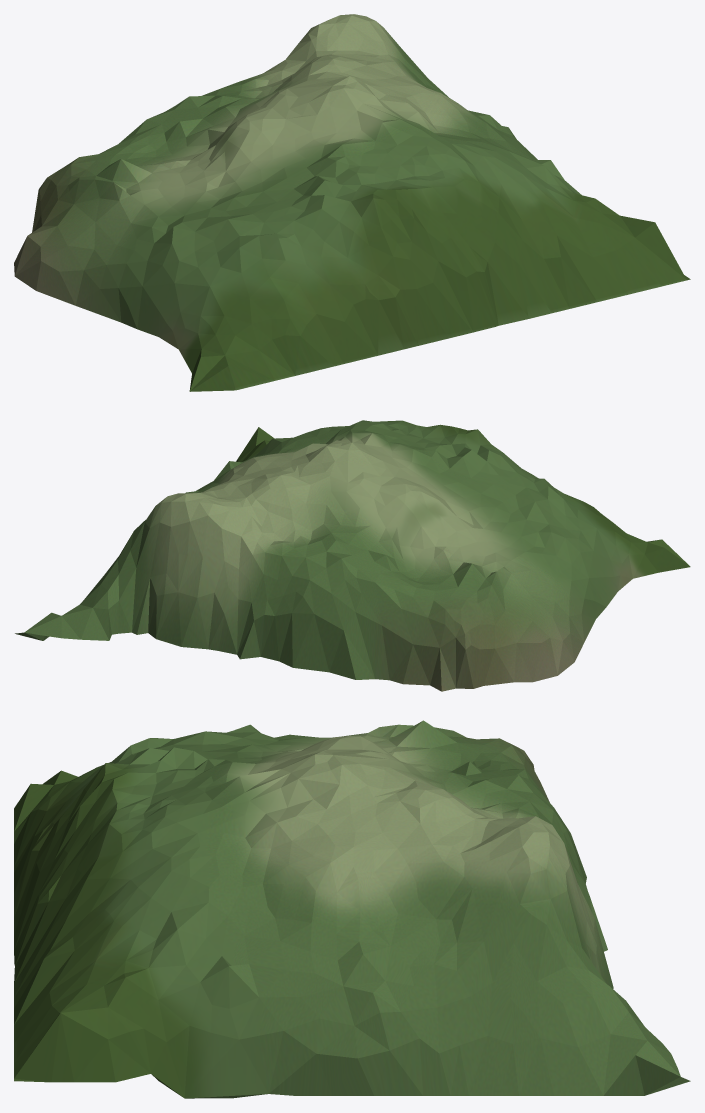
The model's file is m_T01_Deco 1.fbx.
The picture shows the model from 3 angles, top to bottom: view 1: azimuth 30°, elevation 25°; view 2: azimuth 150°, elevation 25°; view 3: azimuth 270°, elevation 25°; orthographic projection. The views are drawn at different scales.
Parts seen in each view (by area): view 1: 1-1.003; view 2: 1-1.003; view 3: 1-1.003.
Boxes of the visible parts, bbox=[...] form: 1-1.003: bbox=[14, 14, 690, 391]; 1-1.003: bbox=[15, 420, 690, 691]; 1-1.003: bbox=[14, 720, 690, 1098].
Bounding box in the file's own units: 17120 × 5742 × 16208.
